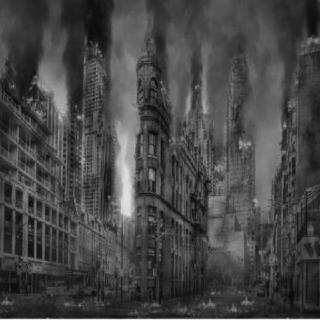Fire: (135, 294, 157, 312), (304, 27, 318, 50), (282, 94, 292, 111), (194, 80, 200, 88)
Smoke: (247, 56, 279, 138), (186, 17, 200, 76)
